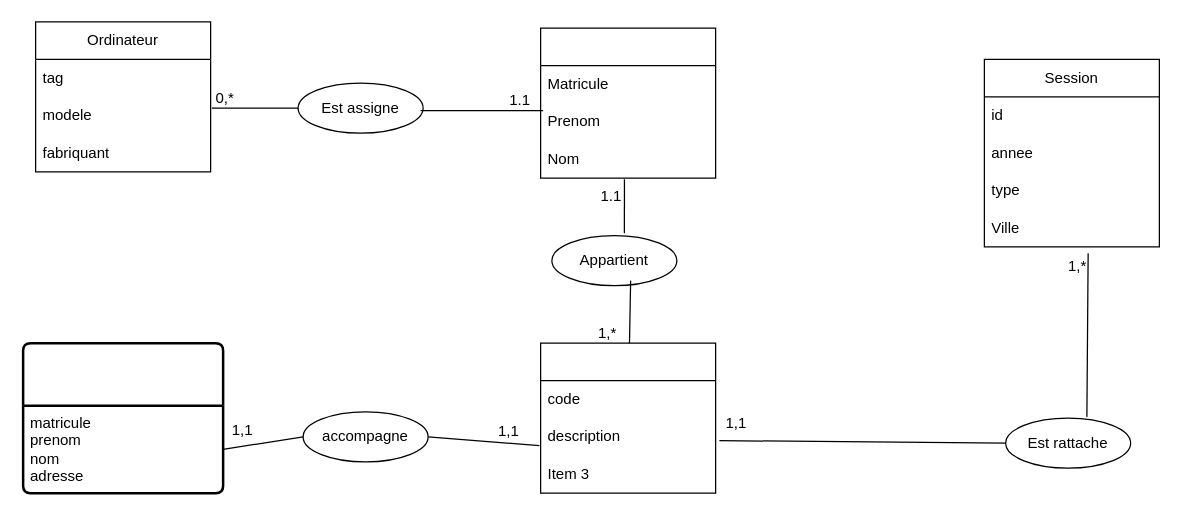
The diagram is 1181 pixels wide and 516 high, and some of its shapes have lost their labels. The shapes that lost their labels are listed below. From the top down, each one's box as (x1, y1, x2, y2) in pixels, then its label:
(539, 27, 716, 178): Apprenant
(21, 341, 224, 494): Coach
(539, 342, 716, 493): Cohorte
